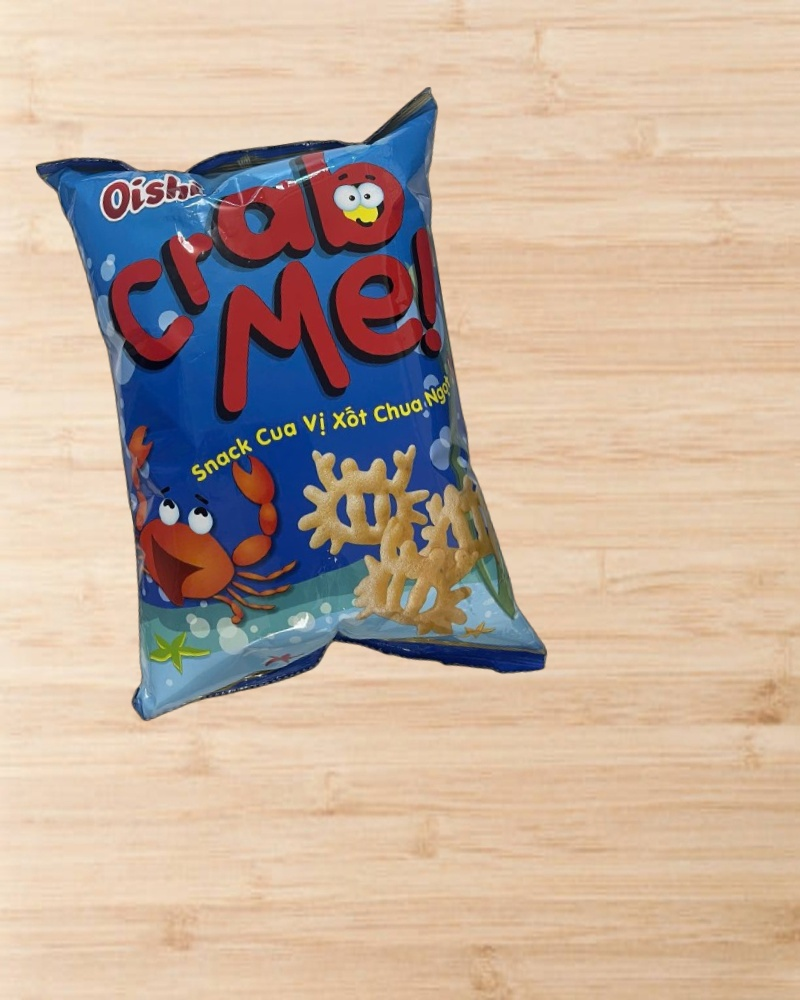Snack chay: (35, 85, 550, 743)
